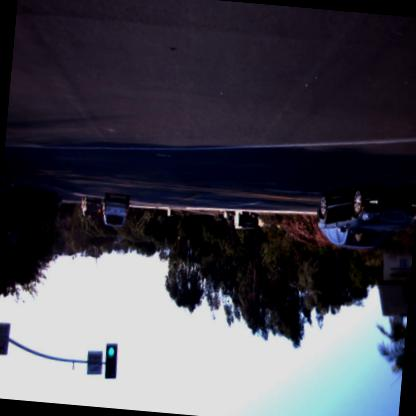trafficlight: (102, 342, 122, 380)
